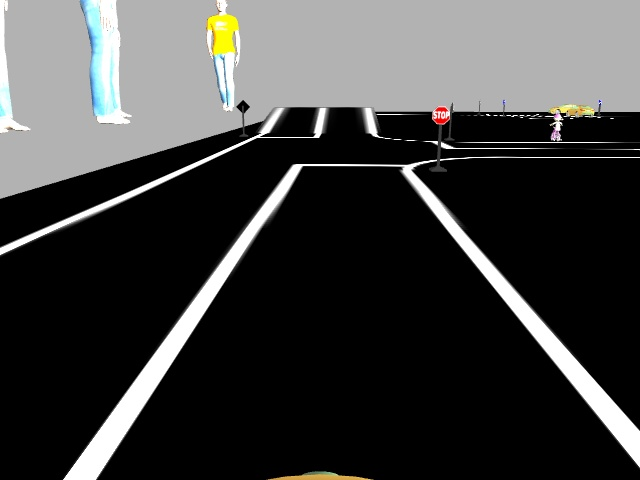Pedestrian: (548, 112, 565, 144)
Stop: (430, 105, 450, 126)
